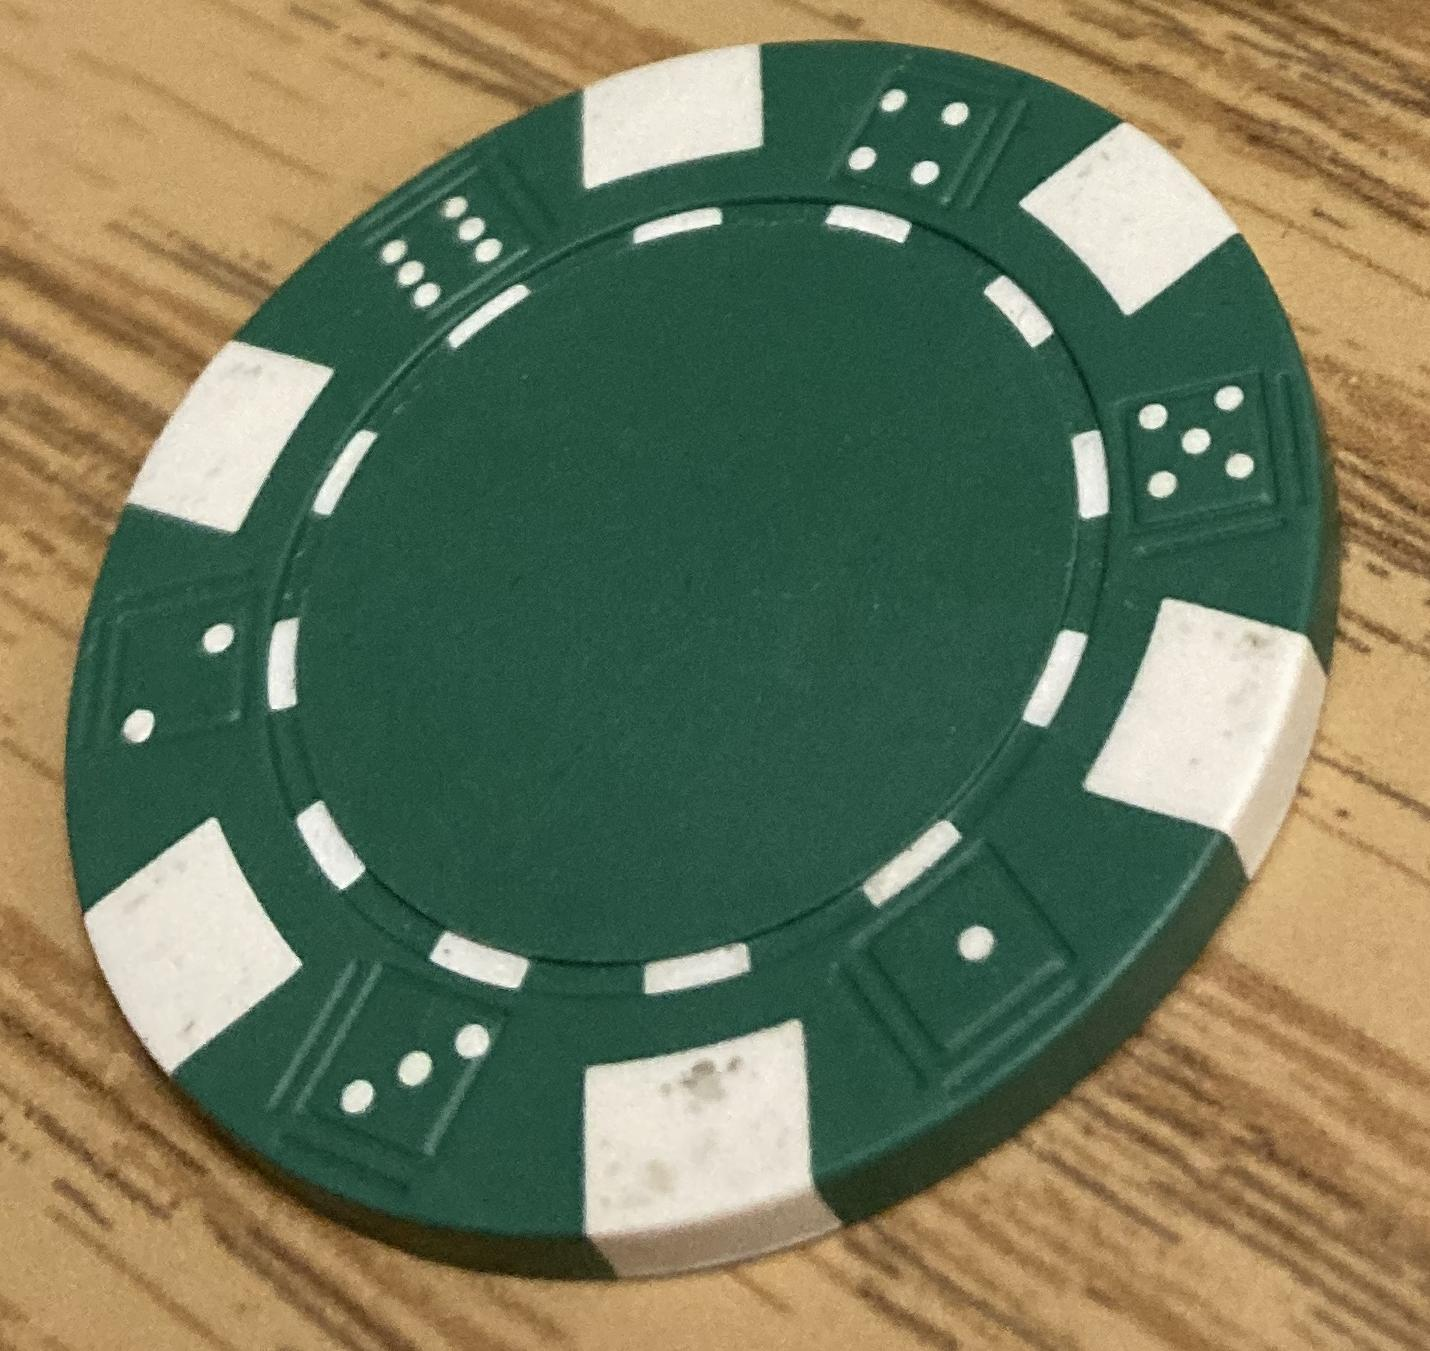Chip: (1, 1, 1430, 1351)
